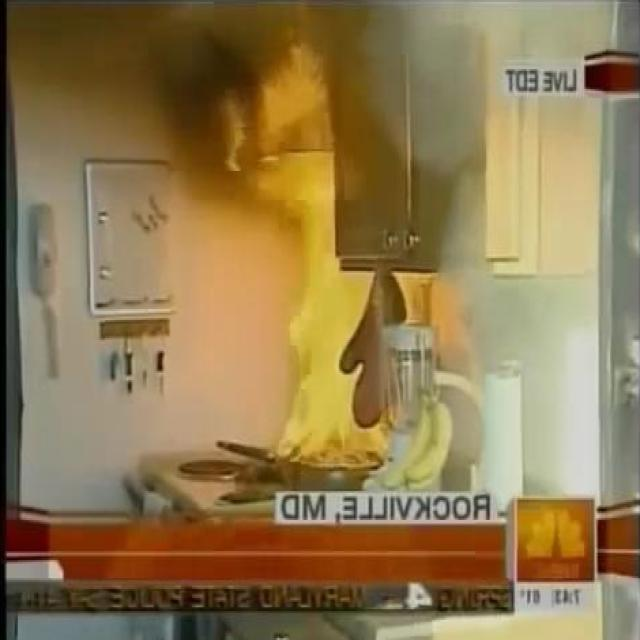fire: (360, 0, 506, 164), (150, 4, 267, 201)
smoke: (220, 52, 385, 466)
